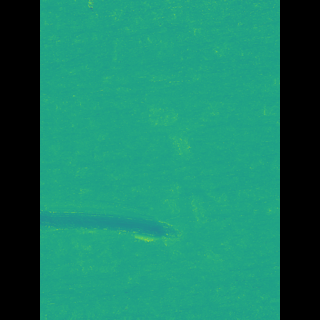Loch: (69, 190, 182, 246)
